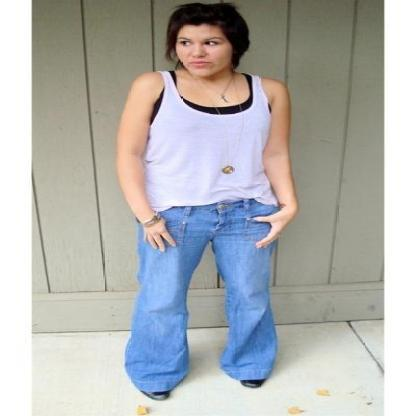pants: (125, 198, 282, 390)
shirt: (146, 62, 276, 211)
shoe: (140, 374, 270, 400)
